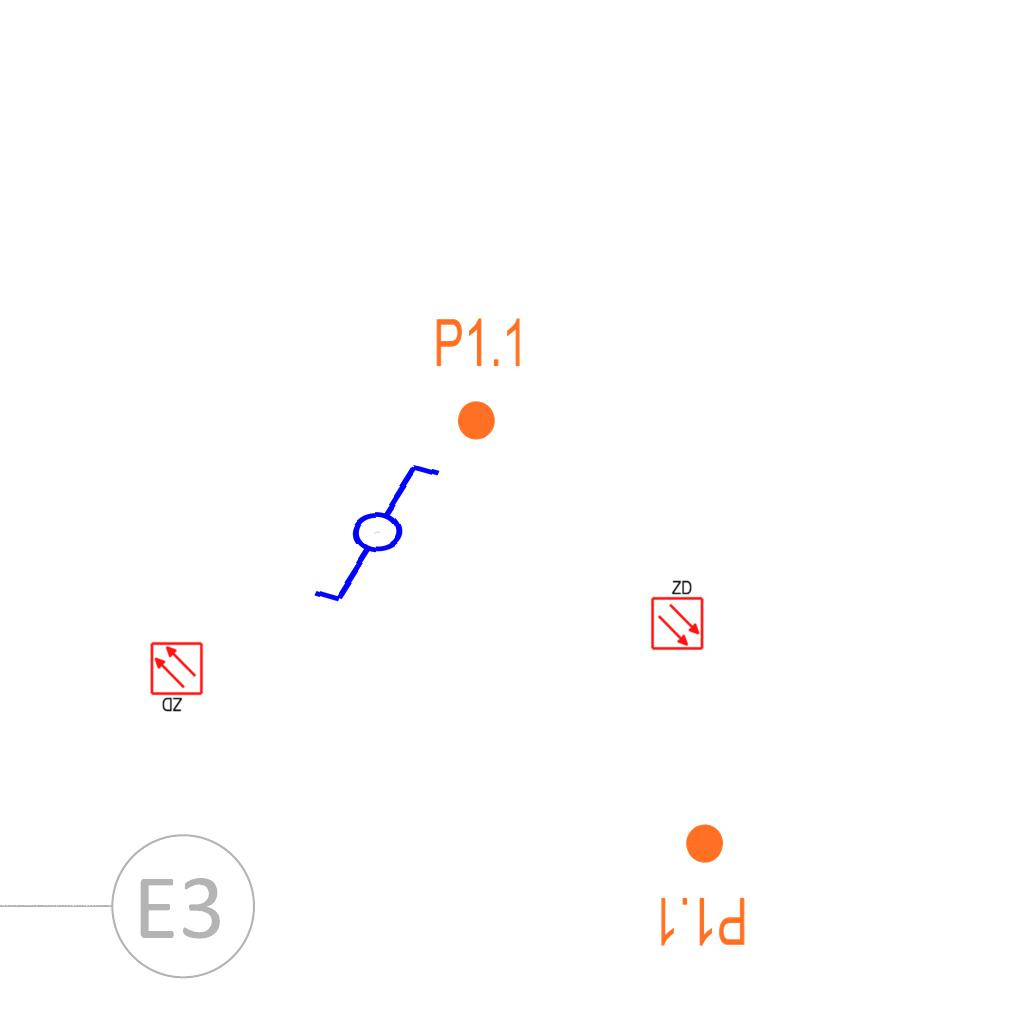Downlight_LED_Einbauleuchten_Flur: (655, 821, 748, 949), (433, 315, 526, 443)
Wechselschalter: (303, 457, 468, 611)
ZD_Melder_in_Zwischendecke_mit_Revisionsoeffnung_mind_40_x_40_cm: (648, 577, 705, 651), (149, 641, 206, 715)
